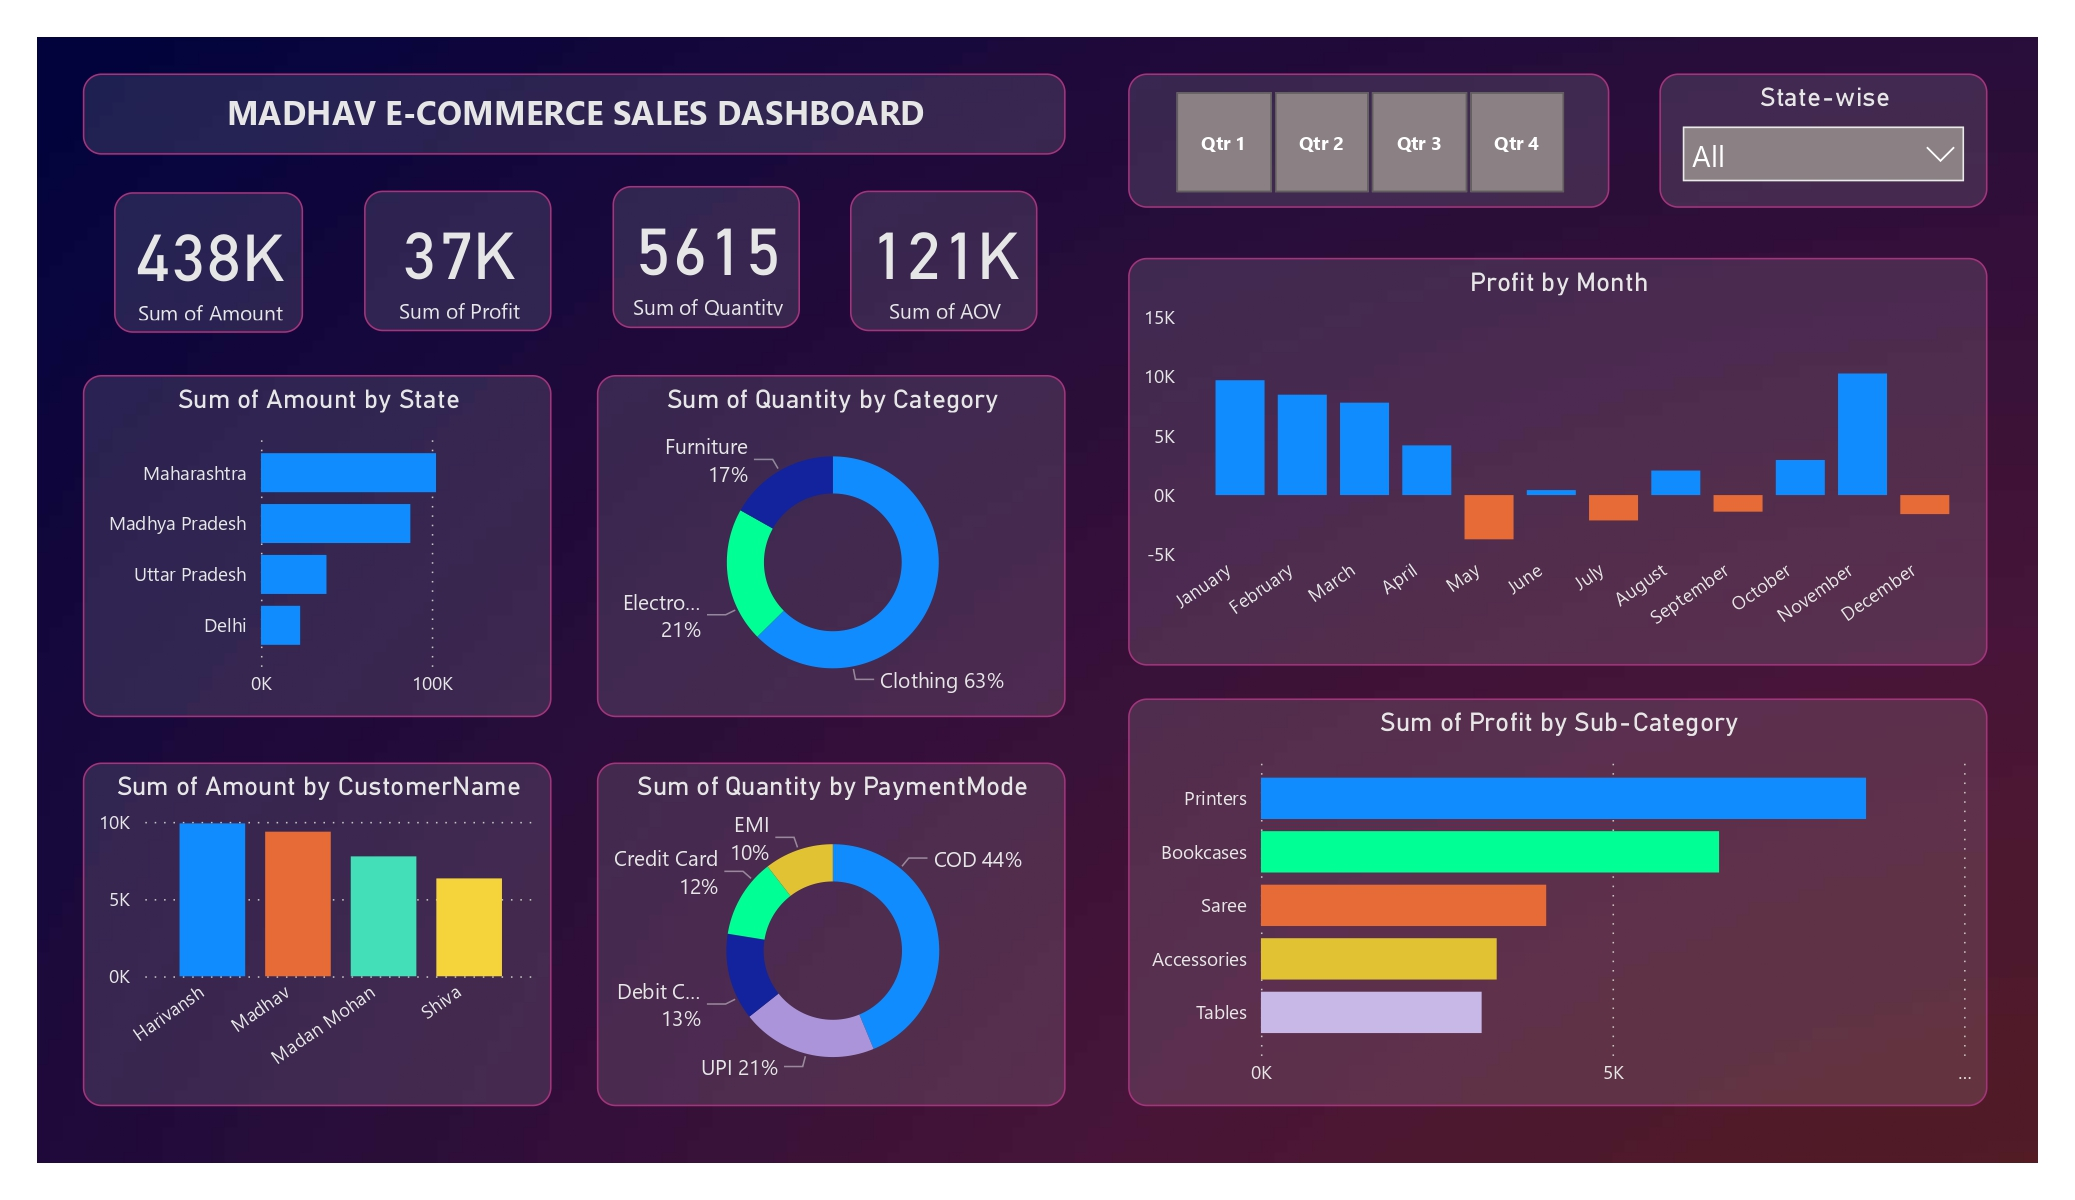

What the dashboard file says about the page in this screenshot:
{"tool":"powerbi","page":{"name":"Page 1","canvas":[1280,720],"ordinal":0},"visuals":[{"type":"textbox","box":[28.9,22.9,629.5,51.9],"z":0},{"type":"columnChart","title":"Profit by Month","fields":{"Category":["Orders.Order Date.Variation.Date Hierarchy.Month"],"Y":["Details.Profit"]},"box":[698.3,141.1,549.9,260.5],"z":1000},{"type":"barChart","fields":{"Category":["Details.Sub-Category"],"Y":["Details.Profit"]},"box":[698.3,423.3,549.9,260.5],"z":2000},{"type":"donutChart","fields":{"Category":["Details.Category"],"Y":["Details.Quantity"]},"box":[358.2,215.9,300.3,219.5],"z":3000},{"type":"donutChart","fields":{"Y":["Details.Quantity"],"Category":["Details.PaymentMode"]},"box":[358.2,464.3,300.3,219.5],"z":4000},{"type":"card","fields":{"Values":["Details.Amount"]},"box":[49.4,98.9,120.6,90.5],"z":5000},{"type":"card","fields":{"Values":["Details.Profit"]},"box":[208.6,97.7,120.6,90.5],"z":6000},{"type":"card","fields":{"Values":["Details.Quantity"]},"box":[367.8,95.3,120.6,90.5],"z":7000},{"type":"card","fields":{"Values":["Details.AOV"]},"box":[519.8,97.7,120.6,90.5],"z":8000},{"type":"barChart","fields":{"Y":["Details.Amount"],"Category":["Orders.State"]},"box":[28.9,215.9,300.3,219.5],"z":9000},{"type":"columnChart","fields":{"Y":["Details.Amount"],"Category":["Orders.CustomerName"]},"box":[28.9,464.3,300.3,219.5],"z":10000},{"type":"slicer","fields":{"Values":["Orders.Order Date.Variation.Date Hierarchy.Quarter"]},"box":[698.3,22.9,307.5,85.6],"z":11000},{"type":"slicer","title":"State-wise","fields":{"Values":["Orders.State"]},"box":[1038.4,22.9,209.8,85.6],"z":12000}]}

Visuals, with their boxes on the page's 1280x720 design canvas (x1, y1, x2, y2). These are canvas units, not pixel positions in the 2075x1200 screenshot, which may show the page scaled, cropped or inside an application window:
textbox: 29:23:658:75
"Profit by Month" columnChart: 698:141:1248:402
barChart - Details.Sub-Category x Details.Profit: 698:423:1248:684
donutChart - Details.Category x Details.Quantity: 358:216:658:435
donutChart - Details.Quantity x Details.PaymentMode: 358:464:658:684
card - Details.Amount: 49:99:170:189
card - Details.Profit: 209:98:329:188
card - Details.Quantity: 368:95:488:186
card - Details.AOV: 520:98:640:188
barChart - Details.Amount x Orders.State: 29:216:329:435
columnChart - Details.Amount x Orders.CustomerName: 29:464:329:684
slicer - Orders.Order Date.Variation.Date Hierarchy.Quarter: 698:23:1006:108
"State-wise" slicer: 1038:23:1248:108
